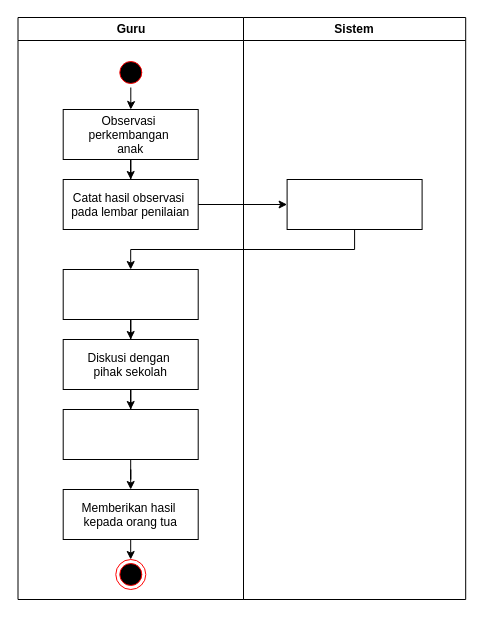
Image size: 483x617. Some labels were removed from this diagram. Here are the shapes that lost their labels. From the top down, the centre of each, then its label:
(x=354, y=204): Menampung data observasi
(x=130, y=294): Olahan hasil penilaian secara manual
(x=130, y=434): Menentukan kesiapan anak (siap/tidak siap)
